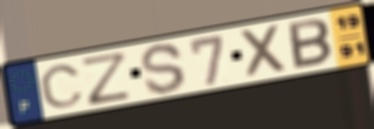7: (187, 32, 229, 87)
B: (286, 17, 335, 72)
C: (37, 64, 86, 110)
S: (138, 41, 189, 97)
X: (238, 22, 291, 81)
Z: (79, 49, 134, 108)
